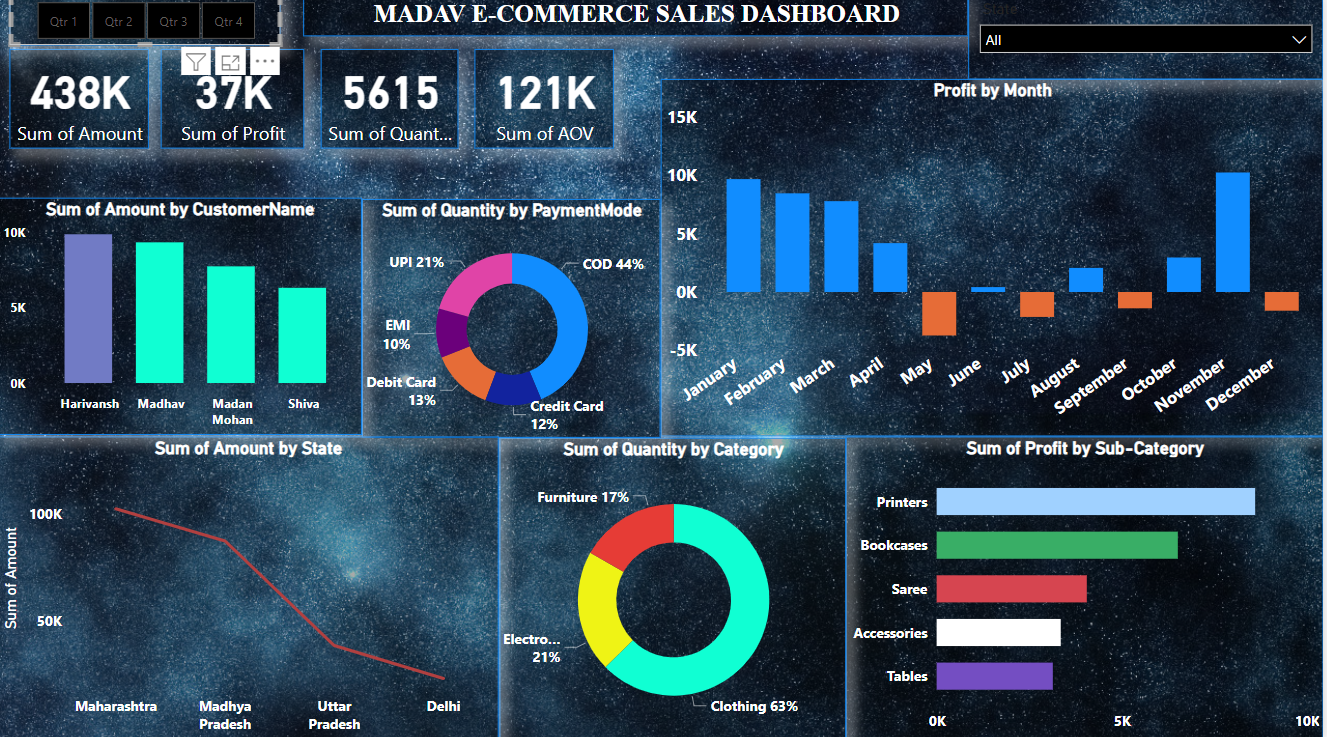

The dashboard page shown, as its layout file describes it:
{"tool":"powerbi","page":{"name":"Page 1","canvas":[1280,720],"ordinal":0},"visuals":[{"type":"textbox","box":[295.5,0,641.6,41],"z":0},{"type":"columnChart","title":"Profit by Month","fields":{"Y":["Details.Profit"],"Category":["Orders.Order Date.Variation.Date Hierarchy.Month"]},"box":[640.4,82,639.2,344.9],"z":1000},{"type":"barChart","fields":{"Y":["Details.Profit"],"Category":["Details.Sub-Category"]},"box":[818.9,426.9,460.7,293.1],"z":2000},{"type":"donutChart","fields":{"Category":["Details.Category"],"Y":["Details.Quantity"]},"box":[485.4,427.8,334.5,292],"z":3000},{"type":"donutChart","fields":{"Y":["Details.Quantity"],"Series":["Details.PaymentMode"]},"box":[352.4,197.4,287.9,230.3],"z":4000},{"type":"card","fields":{"Values":["Details.Amount"]},"box":[12.3,53.5,134.4,96],"z":5000},{"type":"card","fields":{"Values":["Details.Profit"]},"box":[157.7,53.5,138.5,96],"z":6000},{"type":"card","fields":{"Values":["Details.Quantity"]},"box":[312.6,53.5,133,96],"z":7000},{"type":"card","fields":{"Values":["Details.AOV"]},"box":[460.7,53.5,134.4,96],"z":8000},{"type":"lineChart","fields":{"Category":["Orders.State"],"Y":["Details.Amount"]},"box":[0,426.4,484,293.4],"z":9000},{"type":"columnChart","fields":{"Category":["Orders.CustomerName"],"Y":["Details.Amount"]},"box":[0,197,352,229],"z":10000},{"type":"slicer","fields":{"Values":["Orders.Order Date.Variation.Date Hierarchy.Quarter"]},"box":[12.1,0,261.7,49.4],"z":11000},{"type":"slicer","fields":{"Values":["Orders.State"]},"box":[937.1,0,342.5,82],"z":12000}]}

Visuals, with their boxes in screenshot pixels (x1, y1, x2, y2), scaled from the page's 1280x720 canvas onto the 1327x737 screenshot:
textbox: [x1=306, y1=0, x2=972, y2=42]
"Profit by Month" columnChart: [x1=664, y1=84, x2=1326, y2=437]
barChart - Details.Profit x Details.Sub-Category: [x1=849, y1=437, x2=1326, y2=736]
donutChart - Details.Category x Details.Quantity: [x1=503, y1=438, x2=850, y2=736]
donutChart - Details.Quantity x Details.PaymentMode: [x1=365, y1=202, x2=664, y2=438]
card - Details.Amount: [x1=13, y1=55, x2=152, y2=153]
card - Details.Profit: [x1=163, y1=55, x2=307, y2=153]
card - Details.Quantity: [x1=324, y1=55, x2=462, y2=153]
card - Details.AOV: [x1=478, y1=55, x2=617, y2=153]
lineChart - Orders.State x Details.Amount: [x1=0, y1=436, x2=502, y2=736]
columnChart - Orders.CustomerName x Details.Amount: [x1=0, y1=202, x2=365, y2=436]
slicer - Orders.Order Date.Variation.Date Hierarchy.Quarter: [x1=13, y1=0, x2=284, y2=51]
slicer - Orders.State: [x1=972, y1=0, x2=1326, y2=84]
